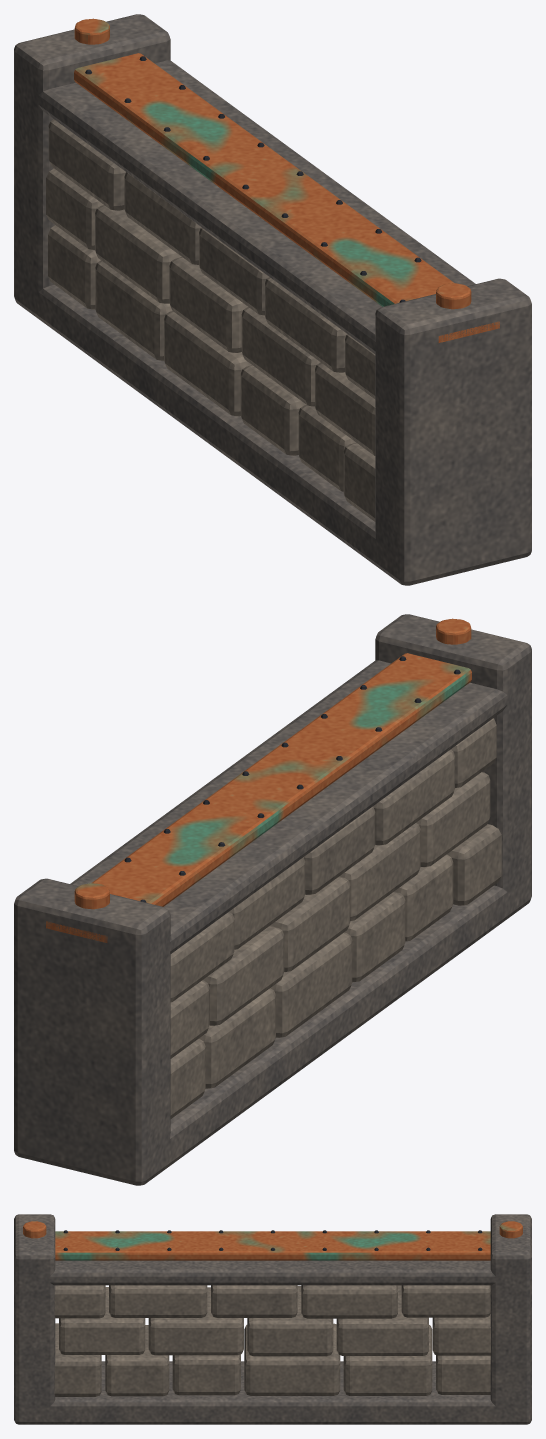
File: garden_wall.glb
3 views of the same model, one above another, from view 1: azimuth 30°, elevation 25°; view 2: azimuth 150°, elevation 25°; view 3: azimuth 270°, elevation 25° (orthographic). The views are drawn at different scales.
Parts seen in each view (by area): view 1: Wall_Pier_-1, Wall_CopperCap, Wall_Coping, Wall_Footing, Wall_Pier_1, Wall_Stone_0_-0.18, Wall_Stone_1_0.36, Wall_Stone_1_-0.16, Wall_Stone_0_0.40, Wall_Stone_1_-0.73, Wall_Stone_2_-0.96, Wall_Stone_0_-0.59 (+11 smaller); view 2: Wall_Pier_1, Wall_CopperCap, Wall_Coping, Wall_Footing, Wall_Pier_-1, Wall_Stone_0_-0.18, Wall_Stone_1_0.36, Wall_Stone_0_0.40, Wall_Stone_1_-0.16, Wall_Stone_1_-0.73, Wall_Stone_1_-1.25, Wall_Stone_2_-0.96 (+11 smaller); view 3: Wall_Footing, Wall_CopperCap, Wall_Coping, Wall_Pier_1, Wall_Pier_-1, Wall_Stone_0_-0.18, Wall_Stone_1_-0.73, Wall_Stone_0_0.40, Wall_Stone_1_0.36, Wall_Stone_1_-0.16, Wall_Stone_1_-1.25, Wall_Stone_2_0.15 (+12 smaller).
Part boxes in pixels (bbox=[...]): Wall_Pier_-1: bbox=[375, 278, 531, 583]; Wall_CopperCap: bbox=[74, 53, 499, 342]; Wall_Coping: bbox=[14, 60, 531, 370]; Wall_Footing: bbox=[14, 273, 531, 585]; Wall_Pier_1: bbox=[14, 14, 170, 319]; Wall_Stone_0_-0.18: bbox=[164, 311, 251, 416]; Wall_Stone_1_0.36: bbox=[95, 205, 181, 303]; Wall_Stone_1_-0.16: bbox=[169, 257, 247, 352]; Wall_Stone_0_0.40: bbox=[95, 260, 172, 360]; Wall_Stone_1_-0.73: bbox=[241, 307, 320, 406]; Wall_Stone_2_-0.96: bbox=[265, 277, 347, 372]; Wall_Stone_0_-0.59: bbox=[240, 365, 306, 455]; Wall_Pier_1: bbox=[14, 878, 170, 1182]; Wall_CopperCap: bbox=[46, 653, 471, 942]; Wall_Coping: bbox=[14, 660, 531, 970]; Wall_Footing: bbox=[14, 873, 531, 1185]; Wall_Pier_-1: bbox=[375, 614, 531, 919]; Wall_Stone_0_-0.18: bbox=[270, 932, 352, 1037]; Wall_Stone_1_0.36: bbox=[203, 926, 284, 1025]; Wall_Stone_0_0.40: bbox=[199, 988, 275, 1088]; Wall_Stone_1_-0.16: bbox=[270, 876, 350, 972]; Wall_Stone_1_-0.73: bbox=[339, 823, 420, 921]; Wall_Stone_1_-1.25: bbox=[416, 772, 490, 867]; Wall_Stone_2_-0.96: bbox=[372, 749, 454, 845]; Wall_Footing: bbox=[14, 1361, 531, 1424]; Wall_CopperCap: bbox=[55, 1231, 490, 1260]; Wall_Coping: bbox=[14, 1260, 531, 1285]; Wall_Pier_1: bbox=[490, 1214, 531, 1424]; Wall_Pier_-1: bbox=[14, 1214, 55, 1424]; Wall_Stone_0_-0.18: bbox=[244, 1323, 340, 1395]; Wall_Stone_1_-0.73: bbox=[148, 1287, 243, 1355]; Wall_Stone_0_0.40: bbox=[343, 1325, 432, 1395]; Wall_Stone_1_0.36: bbox=[336, 1285, 428, 1355]; Wall_Stone_1_-0.16: bbox=[247, 1286, 333, 1356]; Wall_Stone_1_-1.25: bbox=[59, 1287, 145, 1354]; Wall_Stone_2_0.15: bbox=[301, 1285, 397, 1318].
Bounding box in the file's own units: 0.58 × 1.15 × 3.
Materials: 4 (4 with a texture image).
